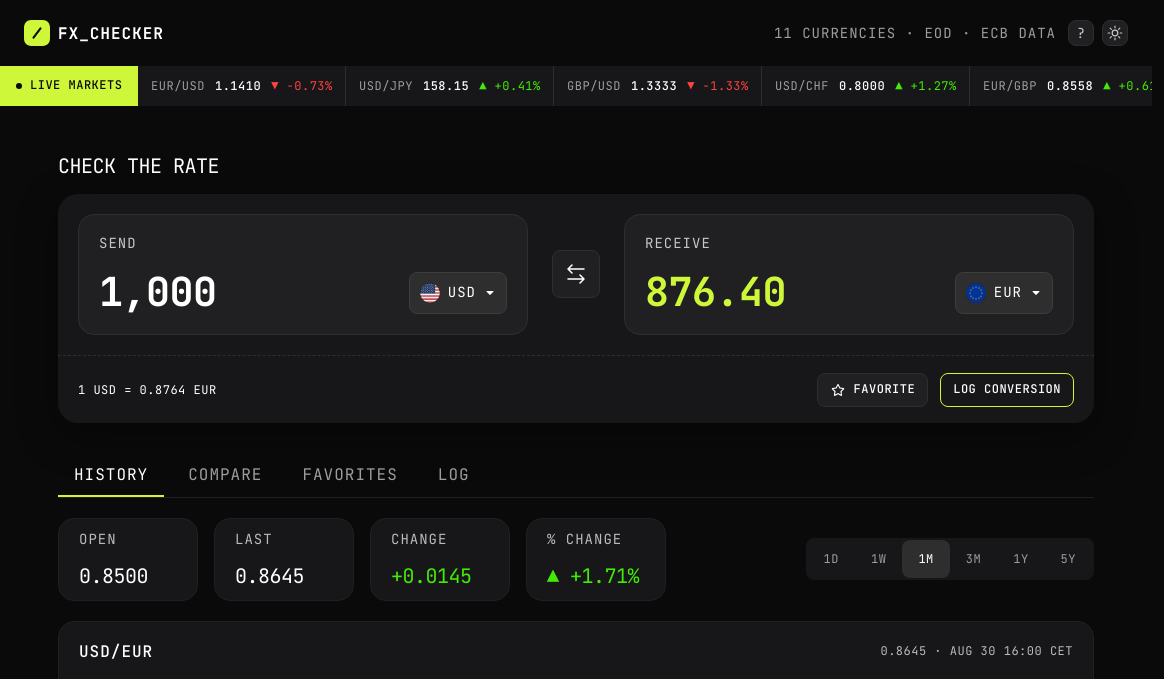
Test: CurrencyPicker (US1) › groups currencies into Popular and Other with counts, and checks the selected one
The image size is (1164, 679).
Expected: the text "1 USD = 0.8764 EUR" is shown, [78,383,217,397]
Click the button with aria-label "Send currency: USD" at (458, 293), box [409,272,507,314]
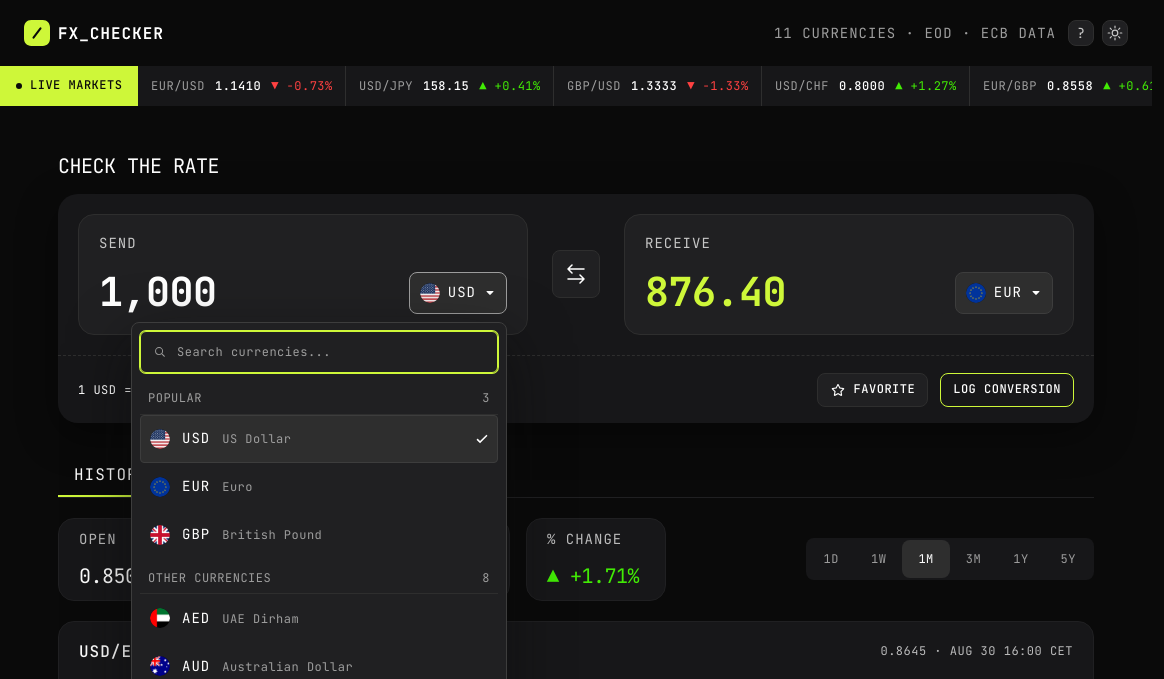
Now the options read "USDUS Dollar", "EUREuro", "GBPBritish Pound", in this order, box [140,415,498,463]; [150,477,253,497]; [150,525,322,545]
Now the text "3" is shown, box [482,391,490,406]
